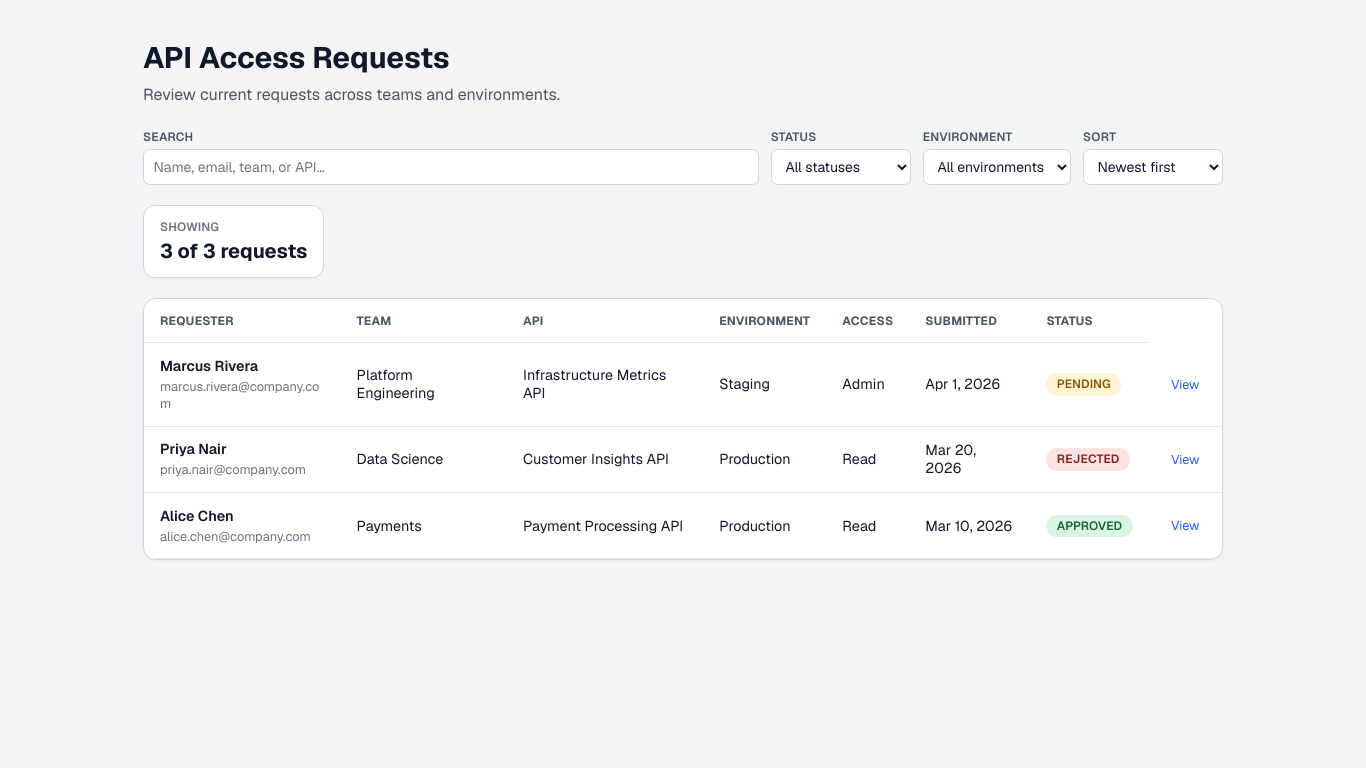
Test: RequestsDashboard detail panel › opens the panel with the selected request's details
This screenshot has width=1366, height=768.
Click the button with aria-label "view details for marcus rivera" at coordinates (1185, 384), box [1165, 373, 1206, 396]
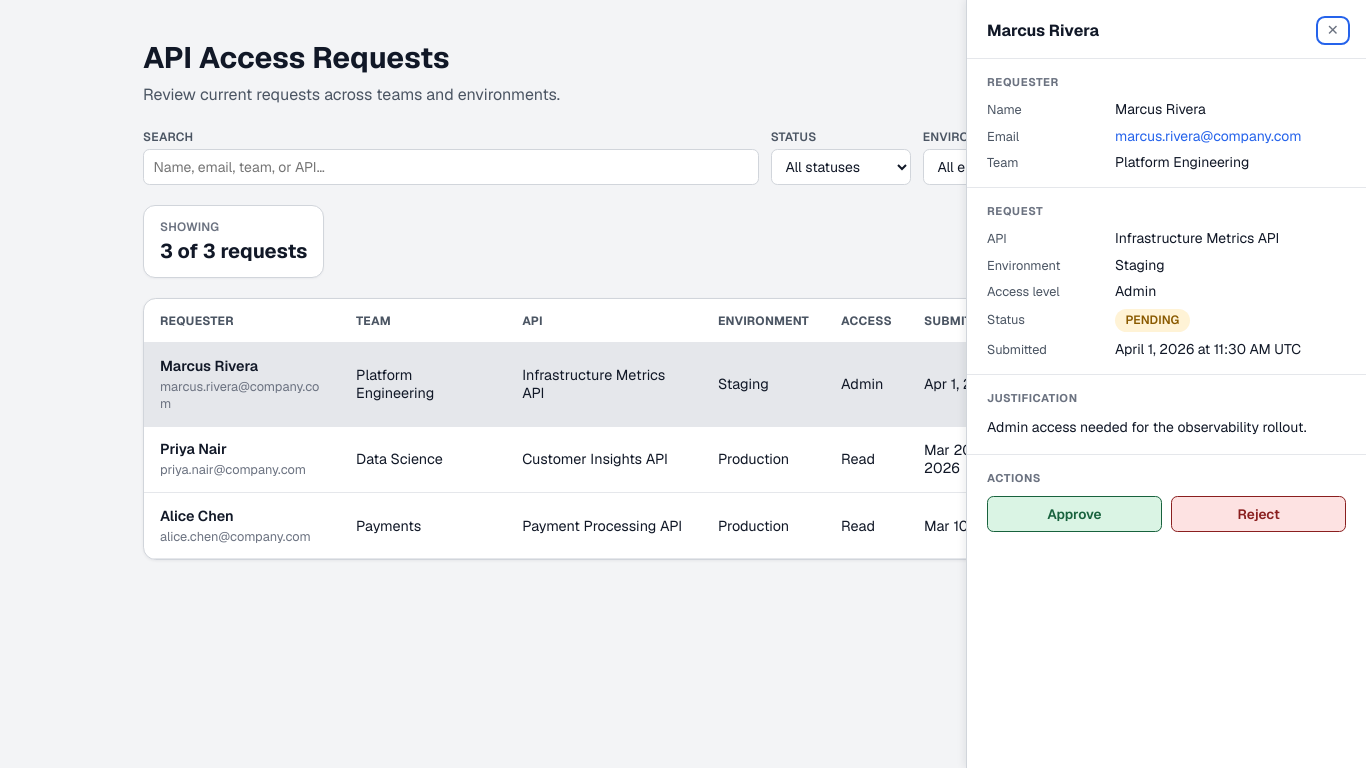
Result: the heading "Marcus Rivera" is shown at [987, 20, 1099, 42]
Result: the text "Admin access needed for the observability rollout." is shown at [987, 416, 1346, 438]
